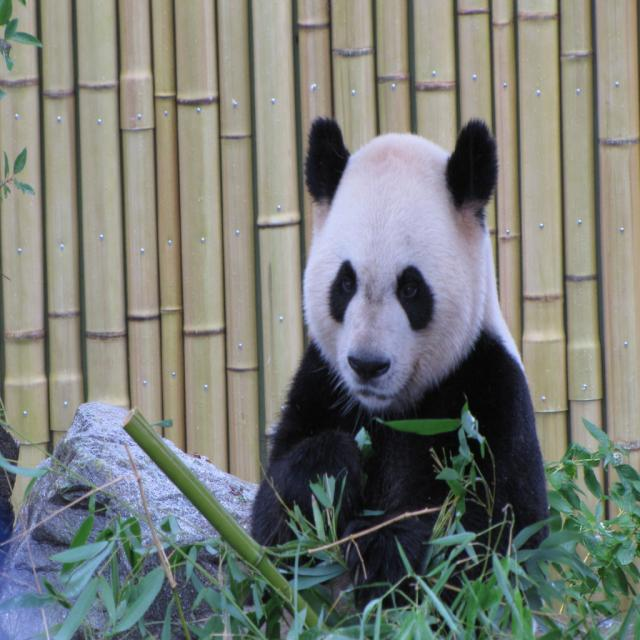panda: (237, 117, 546, 639)
